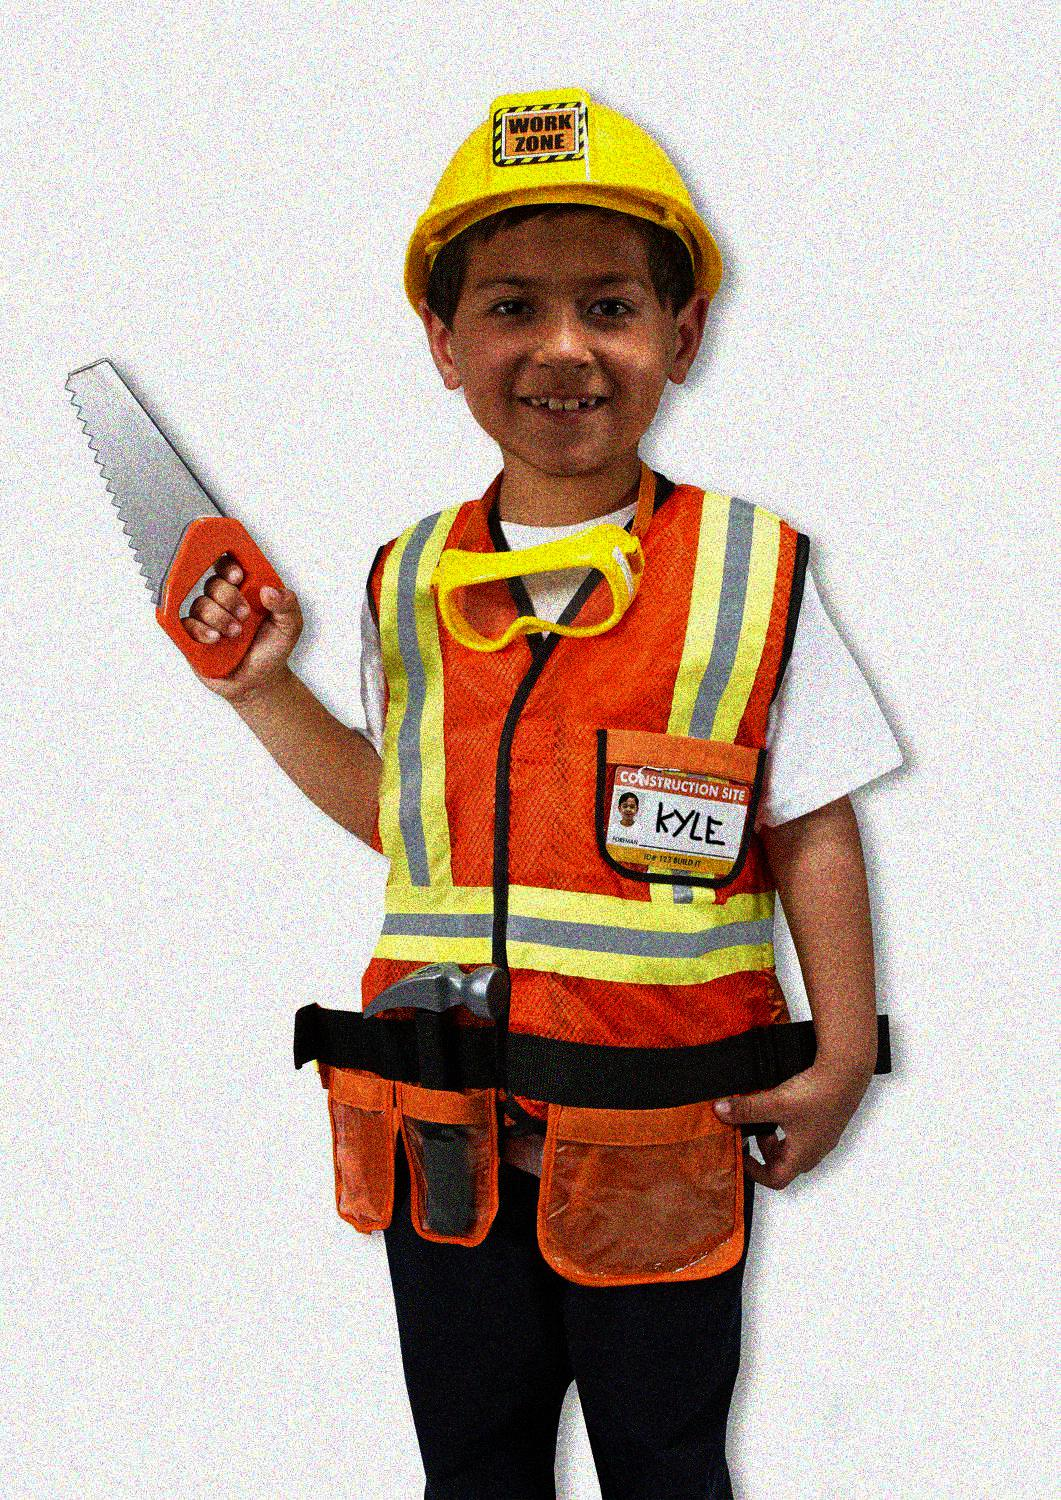helmet: (397, 91, 730, 482)
